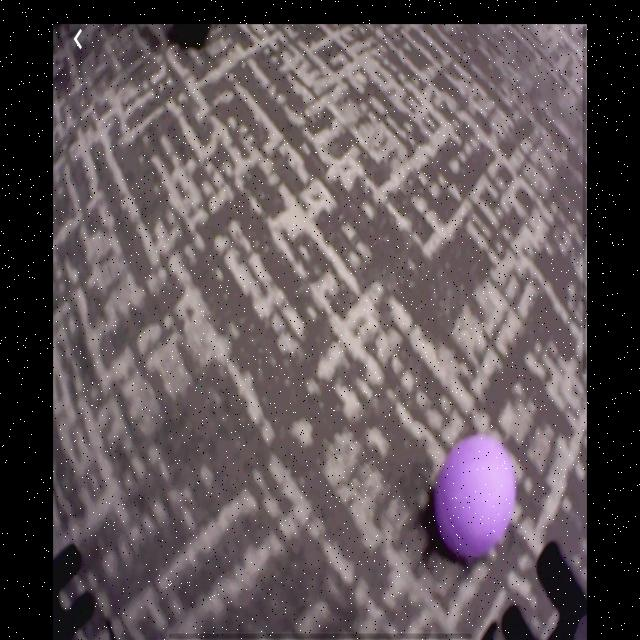ball: (436, 431, 517, 561)
